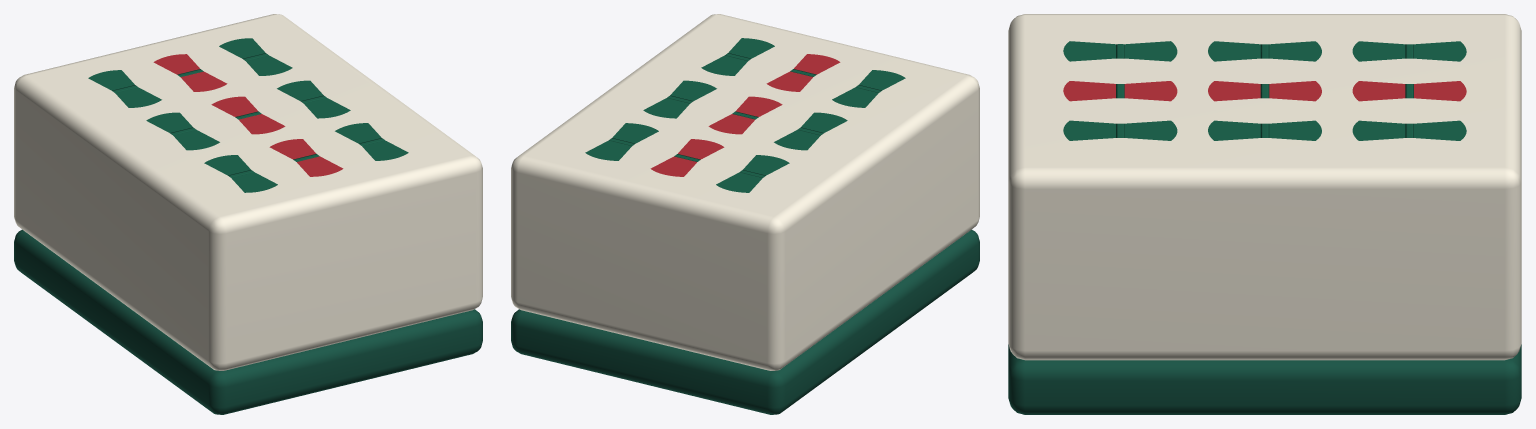
The model's file is suo-09.glb.
3 renders of one model, left to right at view 1: azimuth 30°, elevation 25°; view 2: azimuth 150°, elevation 25°; view 3: azimuth 270°, elevation 25°, orthographic. The views are drawn at different scales.
Parts seen in each view (by area): view 1: suo-09_ivory, suo-09_back, suo-09_face_inlays; view 2: suo-09_ivory, suo-09_back, suo-09_face_inlays; view 3: suo-09_ivory, suo-09_back, suo-09_face_inlays.
Boxes of the visible parts, x1,y1,x2,y2 form: suo-09_ivory: (14,14,482,370); suo-09_back: (14,229,482,414); suo-09_face_inlays: (88,38,408,192); suo-09_ivory: (511,14,979,370); suo-09_back: (511,229,979,414); suo-09_face_inlays: (585,38,905,192); suo-09_ivory: (1008,14,1521,360); suo-09_back: (1008,344,1521,414); suo-09_face_inlays: (1063,41,1466,140).
Bounding box in the file's own units: 0.026 × 0.018 × 0.034.
